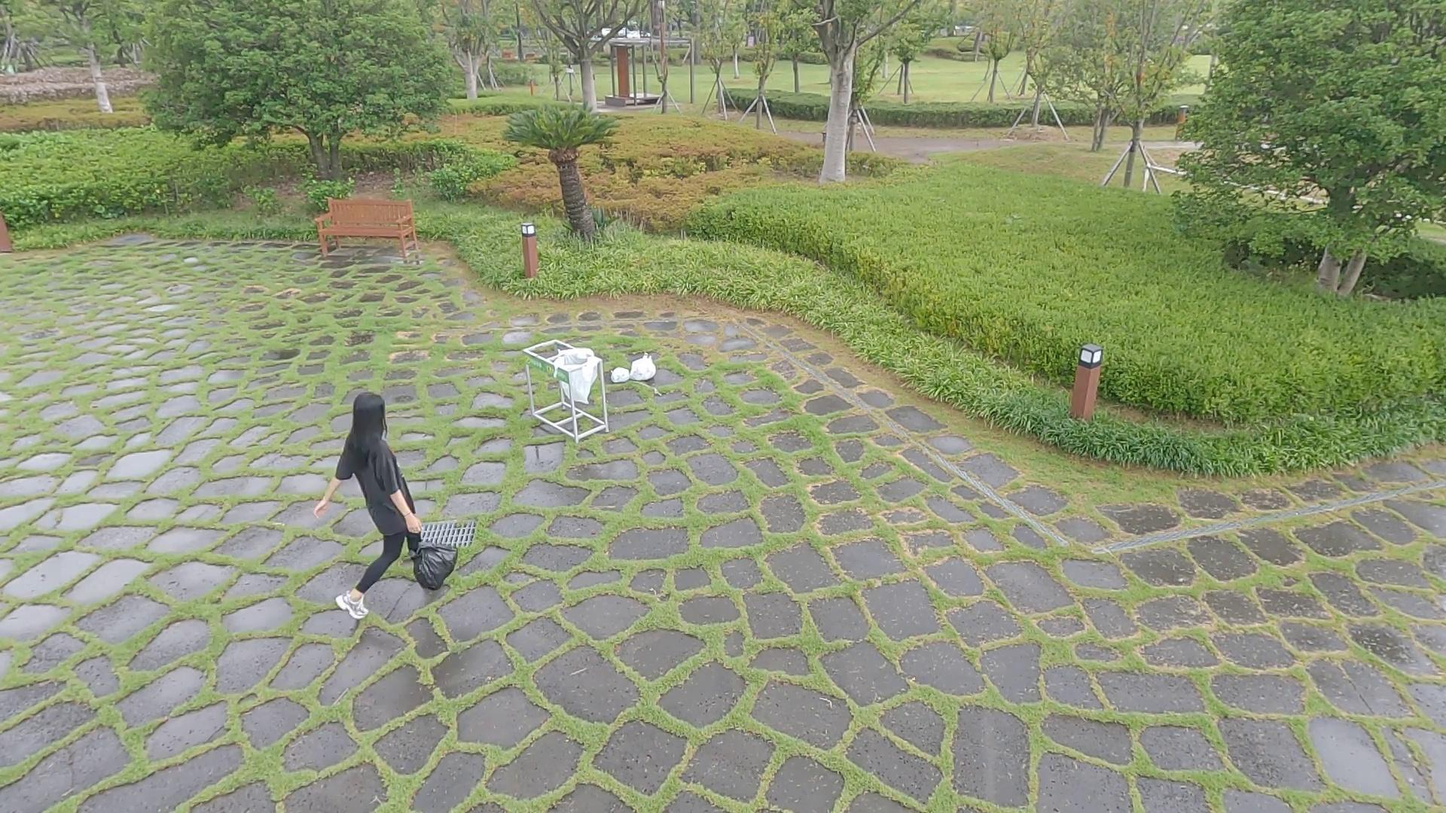person: (308, 382, 462, 629)
trash: (405, 530, 464, 594), (604, 356, 635, 388), (629, 351, 660, 383)
